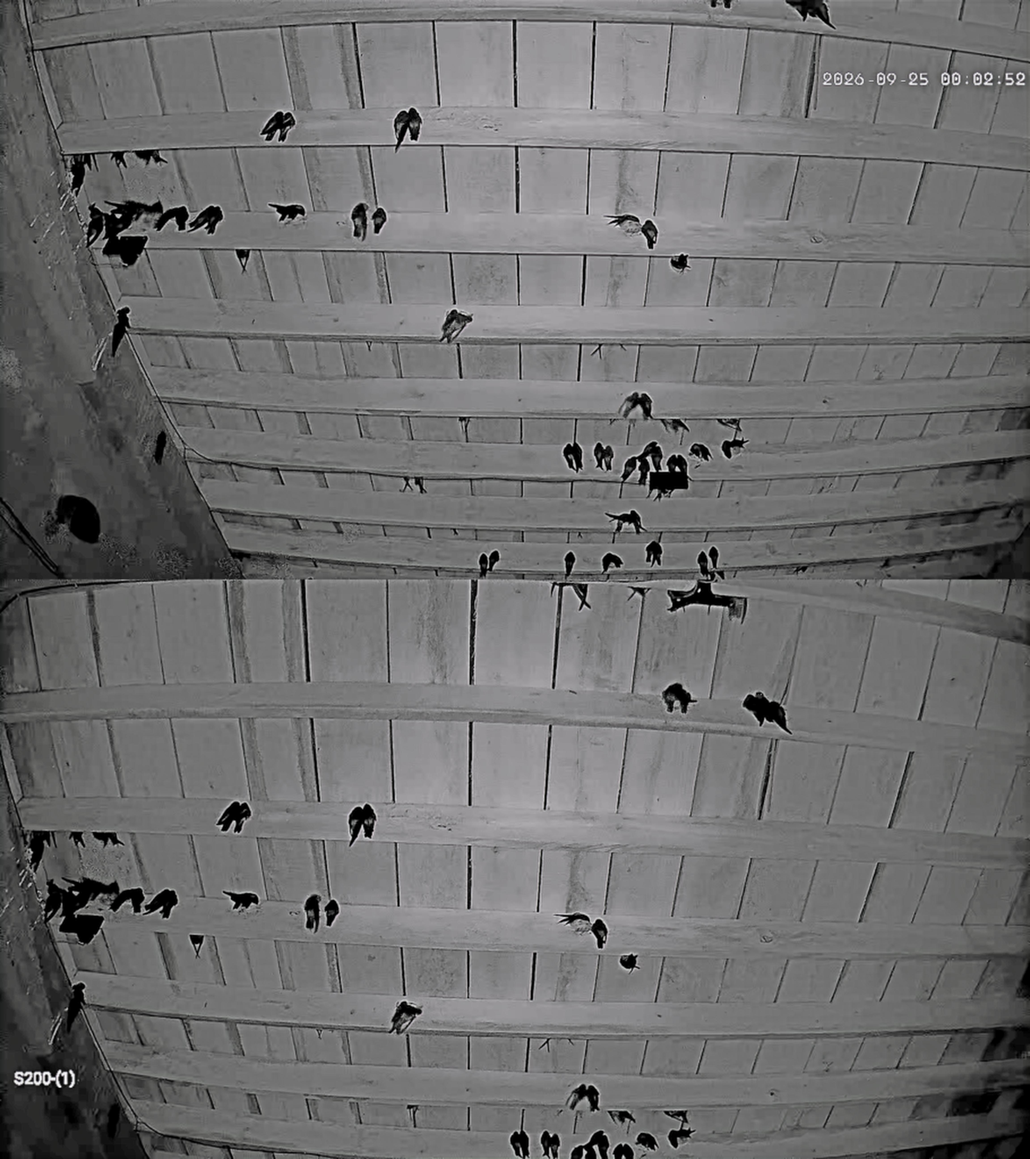swallow bird: (105, 199, 164, 238), (105, 199, 164, 237), (742, 692, 790, 733), (63, 877, 119, 912), (106, 199, 164, 232), (62, 877, 103, 916), (63, 877, 119, 904), (62, 878, 99, 916), (104, 201, 140, 240), (786, 0, 835, 28), (103, 201, 138, 240), (648, 470, 688, 500), (439, 309, 473, 344), (348, 803, 376, 845), (395, 107, 421, 152), (216, 801, 252, 833), (261, 110, 296, 142), (390, 1000, 422, 1034), (662, 682, 696, 714), (144, 888, 178, 919), (188, 205, 224, 234), (28, 831, 53, 872), (68, 155, 93, 195), (66, 982, 85, 1032), (112, 307, 131, 357), (742, 692, 769, 726), (110, 887, 144, 914), (86, 204, 107, 247), (44, 881, 66, 922), (60, 889, 90, 919), (619, 392, 652, 419), (605, 510, 642, 534), (155, 205, 189, 231), (556, 911, 591, 934), (767, 702, 791, 734), (638, 440, 663, 470), (223, 890, 260, 910), (609, 214, 642, 236), (268, 203, 306, 222), (350, 202, 368, 241), (722, 434, 749, 459), (587, 1130, 609, 1159), (304, 894, 320, 932), (233, 802, 252, 834), (567, 1085, 591, 1110), (348, 806, 363, 846), (394, 110, 408, 152), (95, 880, 120, 903), (510, 1129, 529, 1159), (106, 1101, 121, 1139), (608, 1111, 635, 1132), (590, 918, 608, 949), (640, 219, 658, 250), (278, 111, 296, 142), (540, 1130, 559, 1159), (619, 392, 640, 418), (669, 1127, 693, 1149), (572, 583, 591, 610), (407, 107, 422, 141), (658, 417, 689, 433), (709, 547, 724, 580), (134, 150, 167, 165), (153, 430, 167, 465), (92, 832, 123, 847), (648, 443, 664, 472), (601, 552, 622, 574), (666, 453, 688, 474), (664, 452, 687, 472), (562, 443, 578, 471), (636, 392, 652, 420), (371, 206, 387, 234), (688, 442, 711, 461), (697, 551, 712, 580), (646, 541, 663, 566), (621, 456, 637, 482), (570, 441, 583, 473), (325, 899, 339, 928), (716, 417, 741, 433), (670, 254, 691, 273), (636, 1132, 658, 1150), (618, 954, 640, 972), (639, 440, 661, 458), (663, 1110, 689, 1125), (235, 249, 251, 273), (630, 585, 648, 606), (637, 457, 650, 485), (189, 934, 204, 958), (612, 1142, 633, 1159), (601, 444, 614, 471), (587, 1084, 599, 1112), (510, 1131, 522, 1159), (593, 442, 605, 469), (564, 551, 576, 577), (78, 153, 95, 170), (583, 1141, 599, 1159), (110, 151, 126, 169), (551, 582, 574, 594), (488, 549, 500, 572), (406, 1104, 419, 1125), (68, 831, 84, 848), (478, 553, 488, 577), (551, 1133, 560, 1159), (401, 476, 414, 493), (570, 1145, 585, 1159), (414, 477, 426, 494), (591, 343, 602, 358), (794, 565, 808, 576), (722, 0, 732, 10)
